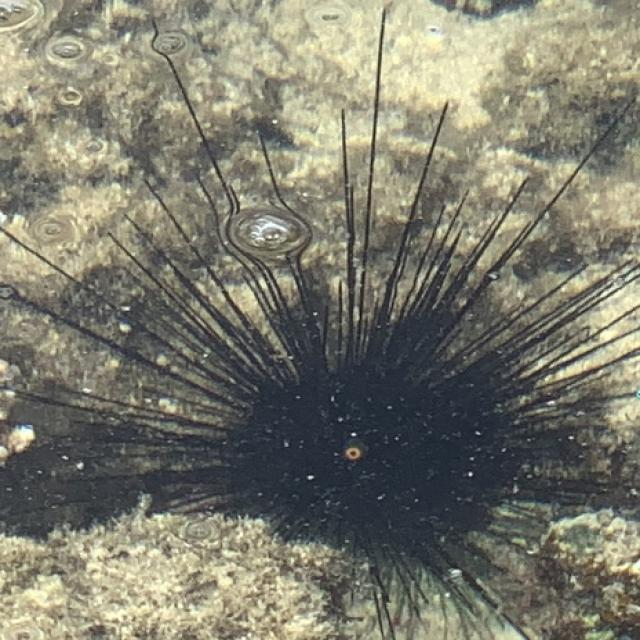Urchin: (11, 11, 640, 630)
